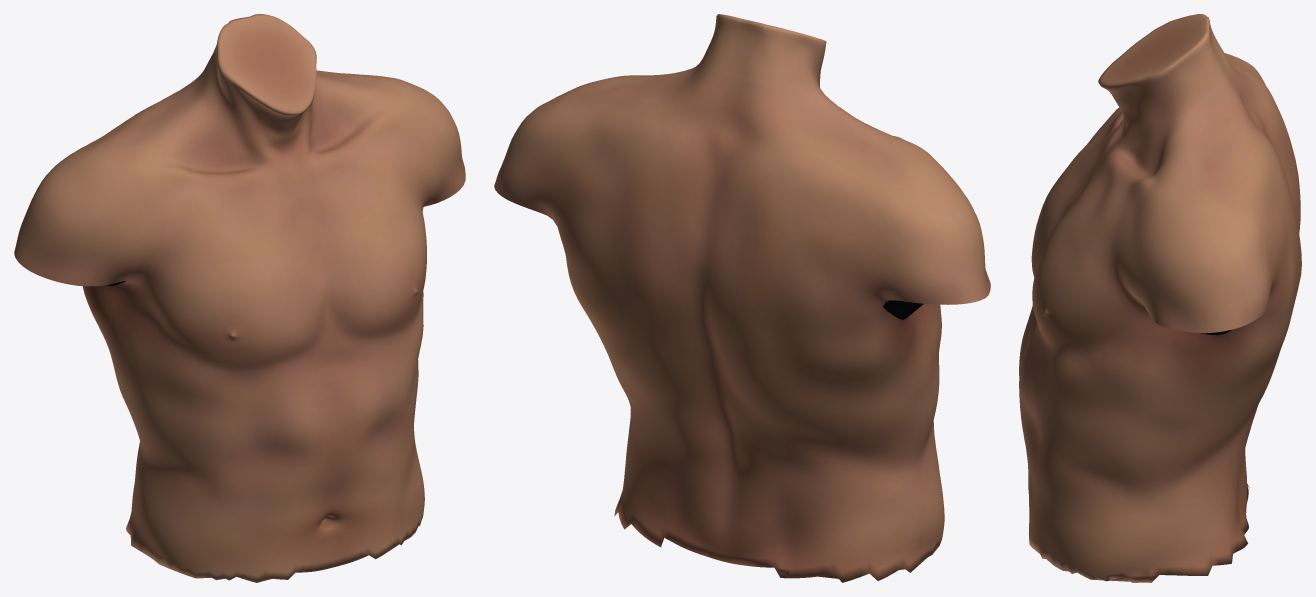
Rendered from male_body.glb.
3 renders of one model, left to right at view 1: azimuth 30°, elevation 25°; view 2: azimuth 150°, elevation 25°; view 3: azimuth 270°, elevation 25°, orthographic. The views are drawn at different scales.
Parts seen in each view (by area): view 1: _gltfNode_0; view 2: _gltfNode_0; view 3: _gltfNode_0.
Boxes of the visible parts, <box> form: _gltfNode_0: <box>14,14,465,582</box>; _gltfNode_0: <box>494,14,990,582</box>; _gltfNode_0: <box>1019,14,1301,582</box>.
Bounding box in the file's own units: 54.28 × 57.73 × 29.7.
Materials: 1 (1 with a texture image).
